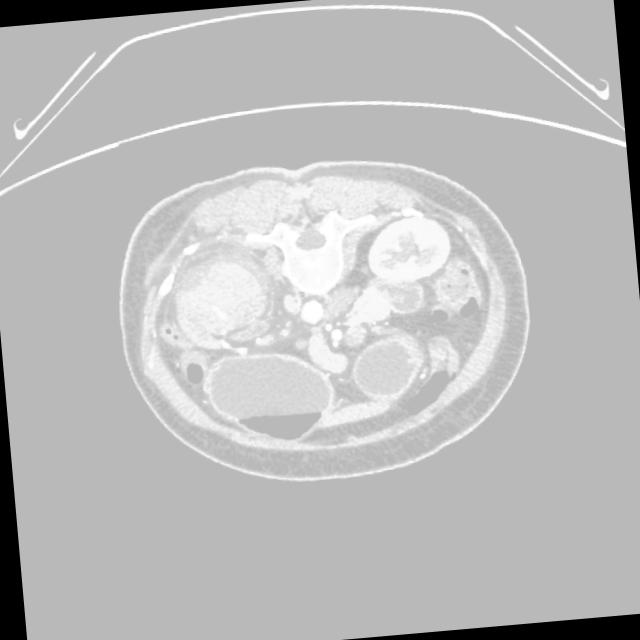TUMOR: (138, 253, 533, 439)
